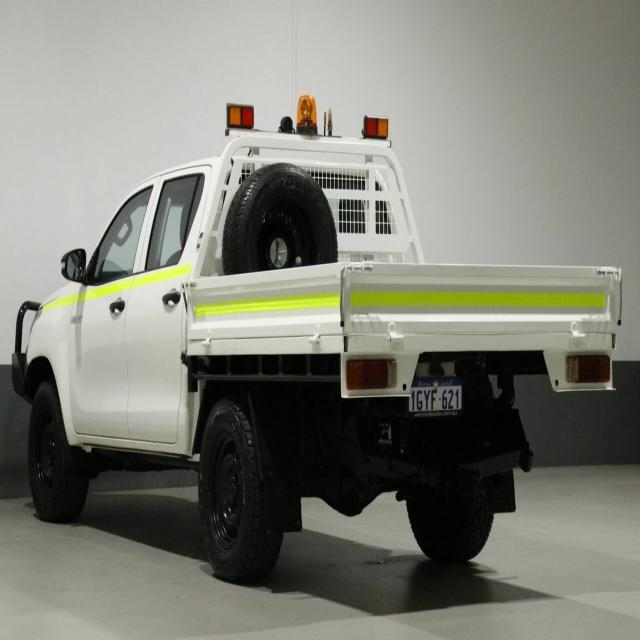light_vehicle: (9, 111, 625, 610)
